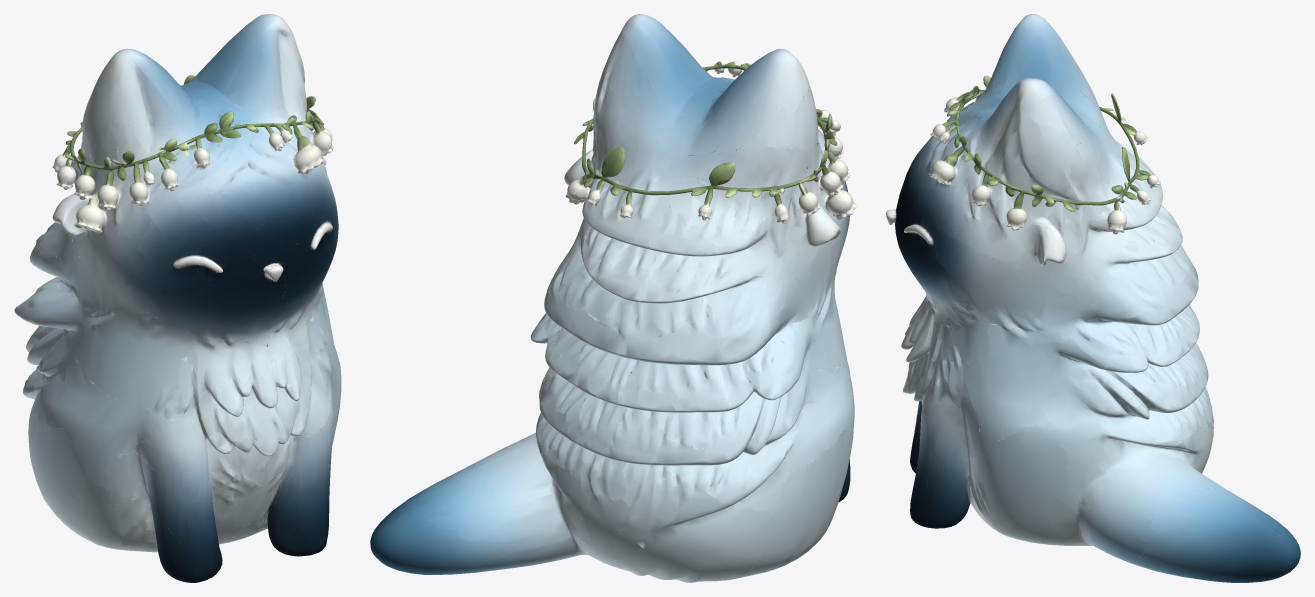
Rendered from lily-garland-B-3DYJMx.glb.
3 views of the same model, side by side, from view 1: azimuth 30°, elevation 25°; view 2: azimuth 150°, elevation 25°; view 3: azimuth 270°, elevation 25° (orthographic). The views are drawn at different scales.
Visible parts, largest first — view 1: worn-lily-garland; view 2: worn-lily-garland; view 3: worn-lily-garland.
Part boxes in pixels (left/top/right/bottom): worn-lily-garland: left=14, top=14, right=341, bottom=582; worn-lily-garland: left=370, top=14, right=857, bottom=582; worn-lily-garland: left=886, top=14, right=1300, bottom=582.
Size of the model in its own units: 1.39 by 1.9 by 1.57.
1 material, 1 textured.
